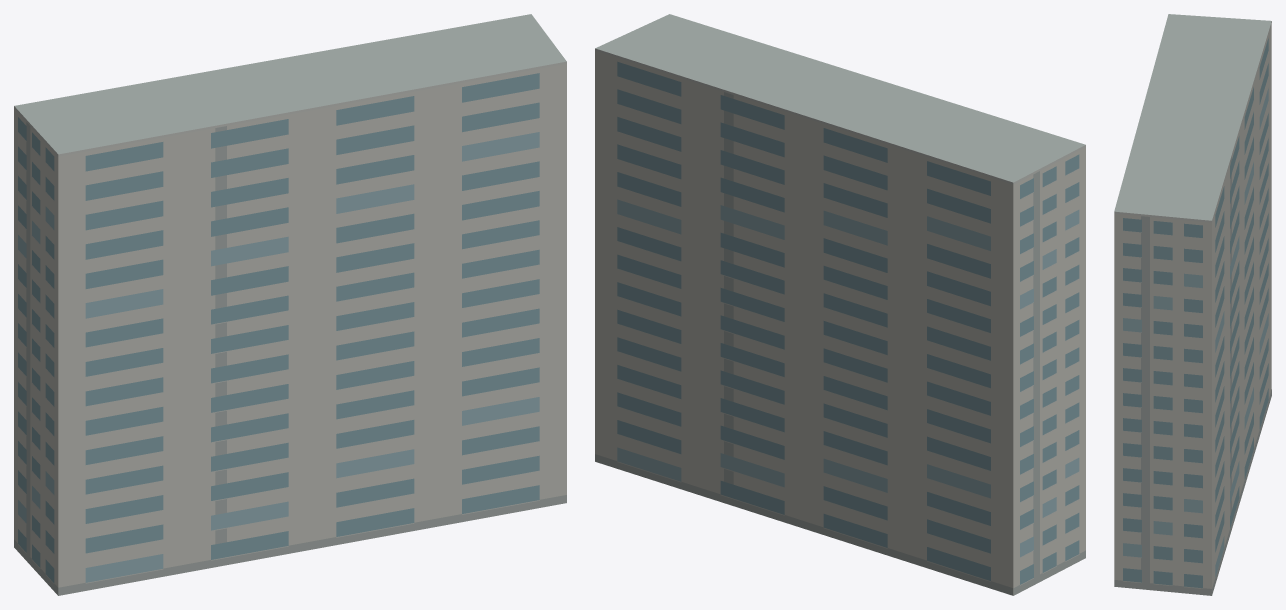
Rendered from residential-e46d254f-8b80-4cef-9d4a-c11ae41aaefa.glb.
3 views of the same model, side by side, from view 1: azimuth 30°, elevation 25°; view 2: azimuth 150°, elevation 25°; view 3: azimuth 270°, elevation 25° (orthographic). The views are drawn at different scales.
Parts seen in each view (by area): view 1: residential-e46d254f-8b80-4cef-9d4a-c11ae41aaefa.tmp; view 2: residential-e46d254f-8b80-4cef-9d4a-c11ae41aaefa.tmp; view 3: residential-e46d254f-8b80-4cef-9d4a-c11ae41aaefa.tmp.
Part boxes in pixels (left/top/right/bottom): residential-e46d254f-8b80-4cef-9d4a-c11ae41aaefa.tmp: left=14, top=14, right=566, bottom=595; residential-e46d254f-8b80-4cef-9d4a-c11ae41aaefa.tmp: left=595, top=14, right=1085, bottom=595; residential-e46d254f-8b80-4cef-9d4a-c11ae41aaefa.tmp: left=1114, top=14, right=1271, bottom=595.
Size of the model in its own units: 54.09 by 45.75 by 17.43.
